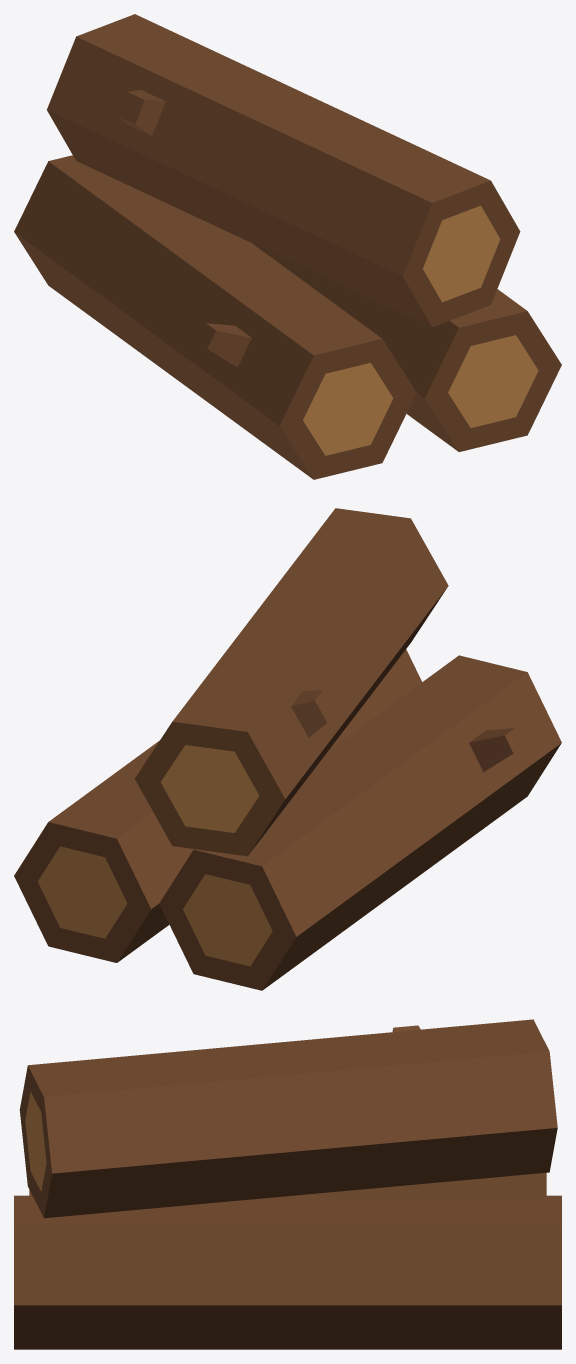
File: kenney_log_stack.glb
The picture shows the model from 3 angles, top to bottom: view 1: azimuth 30°, elevation 25°; view 2: azimuth 150°, elevation 25°; view 3: azimuth 270°, elevation 25°; orthographic projection. The views are drawn at different scales.
Visible parts, largest first — view 1: bark, wood; view 2: bark, wood; view 3: bark, wood.
Boxes of the visible parts, left/top/right/bottom form: bark: left=14, top=14, right=561, bottom=479; wood: left=303, top=205, right=538, bottom=455; bark: left=14, top=508, right=561, bottom=990; wood: left=37, top=745, right=272, bottom=966; bark: left=14, top=1019, right=561, bottom=1349; wood: left=25, top=1091, right=46, bottom=1191.
Bounding box in the file's own units: 0.4247 × 0.3464 × 0.71.
